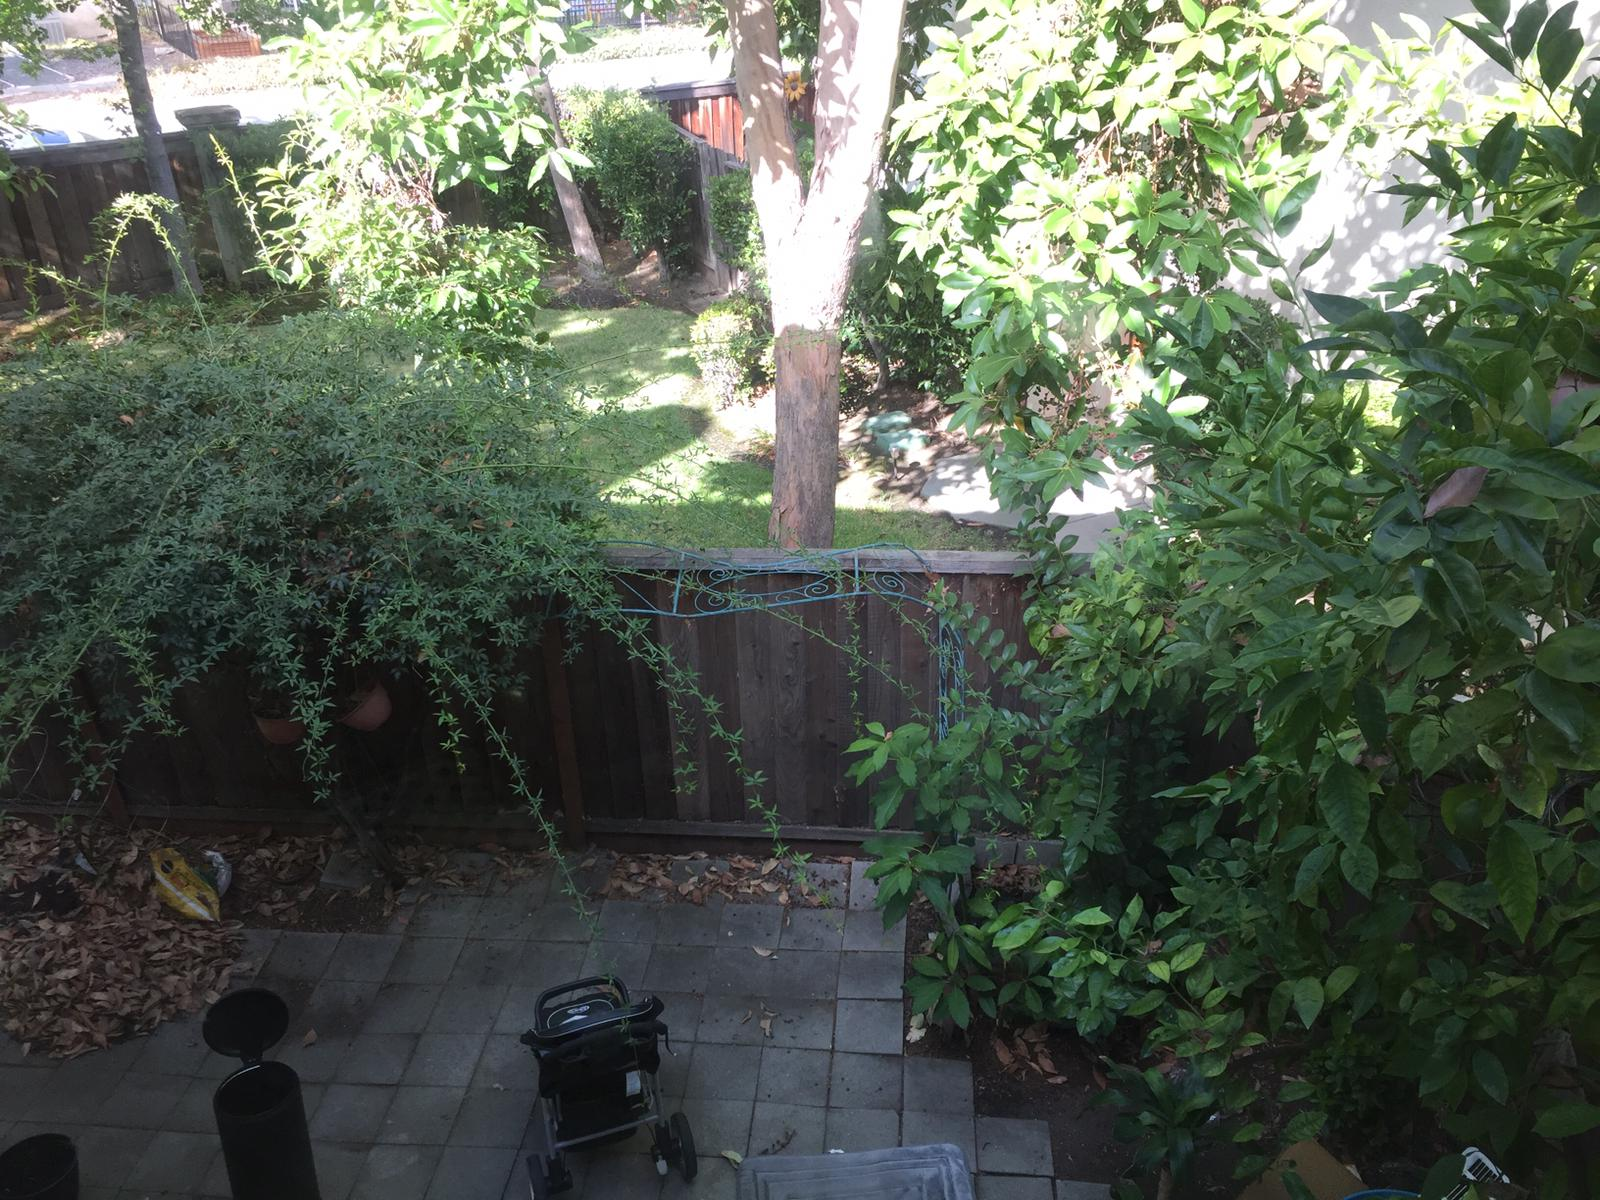plants: (921, 6, 1597, 1126), (9, 285, 601, 567), (294, 11, 583, 284), (593, 98, 698, 290)
